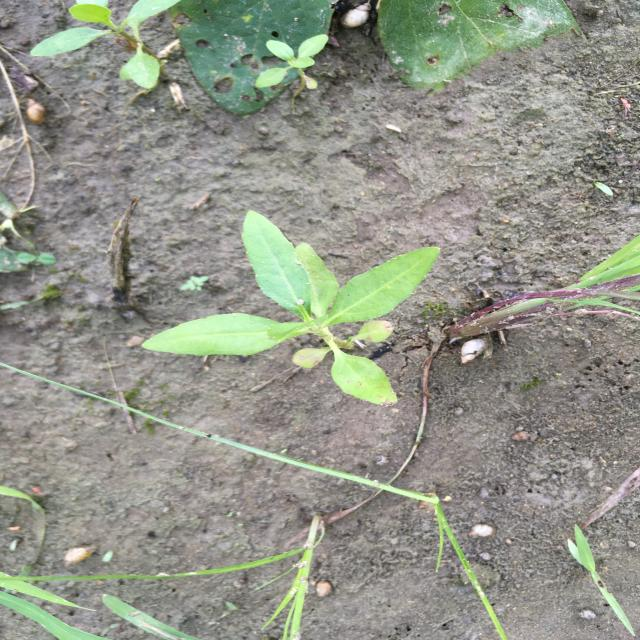Eclipta: (140, 208, 445, 409)
